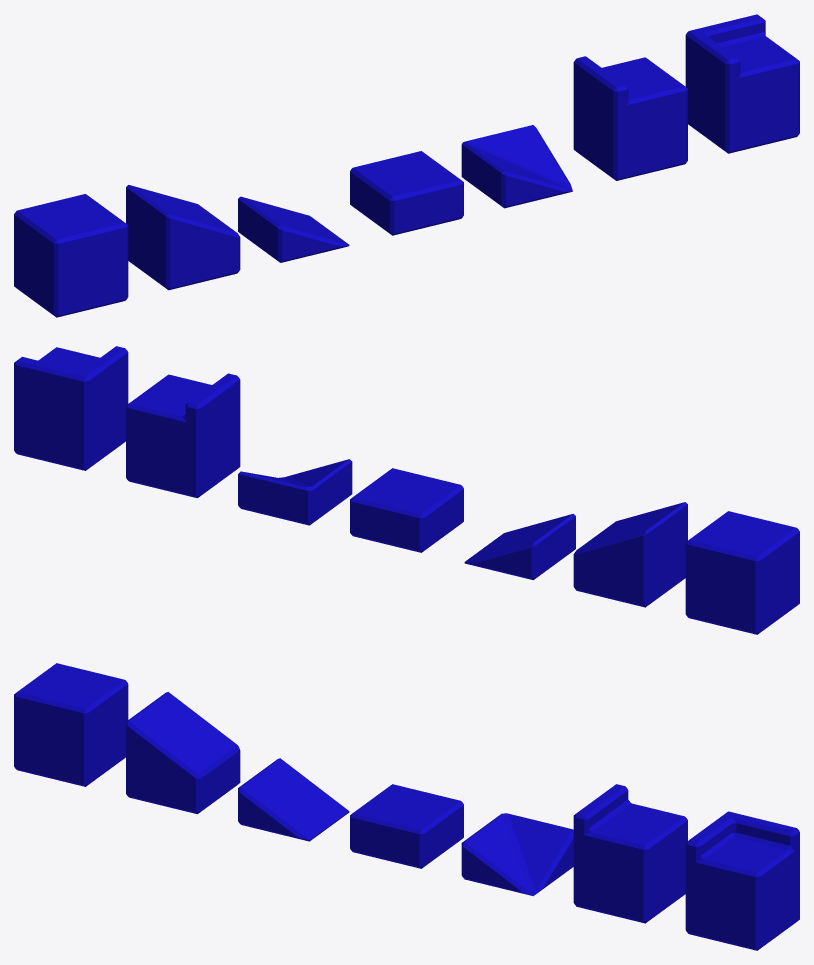
The model's file is blocks.glb.
The picture shows the model from 3 angles, top to bottom: view 1: azimuth 30°, elevation 25°; view 2: azimuth 150°, elevation 25°; view 3: azimuth 330°, elevation 25°; orthographic projection.
Parts seen in each view (by area): view 1: BlockWallCorner, BlookWall, Block, RampTop, BlockShort, RampLowerCorner, RampBottom; view 2: BlockWallCorner, BlookWall, Block, RampTop, BlockShort, RampLowerCorner, RampBottom; view 3: BlockWallCorner, BlookWall, Block, RampTop, BlockShort, RampLowerCorner, RampBottom.
Part boxes in pixels (x1,y1,x2,y2): BlockWallCorner: [685, 14, 799, 153]; BlookWall: [573, 56, 687, 180]; Block: [14, 194, 128, 317]; RampTop: [126, 185, 240, 290]; BlockShort: [350, 151, 463, 235]; RampLowerCorner: [461, 125, 572, 208]; RampBottom: [238, 196, 349, 262]; BlockWallCorner: [14, 346, 128, 470]; BlookWall: [126, 373, 240, 498]; Block: [685, 511, 799, 634]; RampTop: [573, 502, 687, 607]; BlockShort: [350, 468, 463, 552]; RampLowerCorner: [238, 459, 352, 525]; RampBottom: [464, 513, 575, 580]; BlockWallCorner: [685, 811, 799, 950]; BlookWall: [573, 784, 687, 923]; Block: [14, 663, 128, 786]; RampTop: [126, 692, 240, 814]; BlockShort: [350, 784, 463, 868]; RampLowerCorner: [461, 813, 573, 896]; RampBottom: [238, 758, 349, 841].
Size of what is drawn, in the model's own units: 20 by 2.4 by 2.
